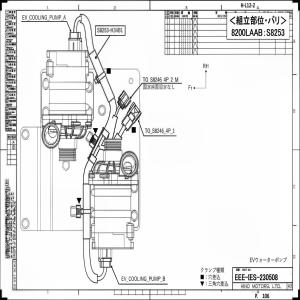PartNumber: (97, 27, 123, 33)
